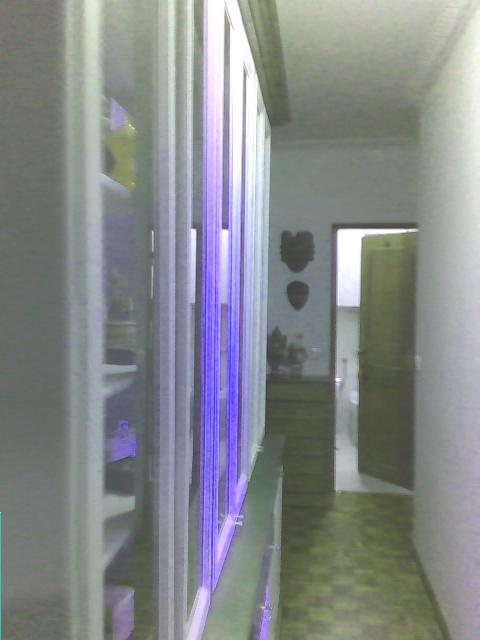semi_door: (330, 220, 421, 496)
